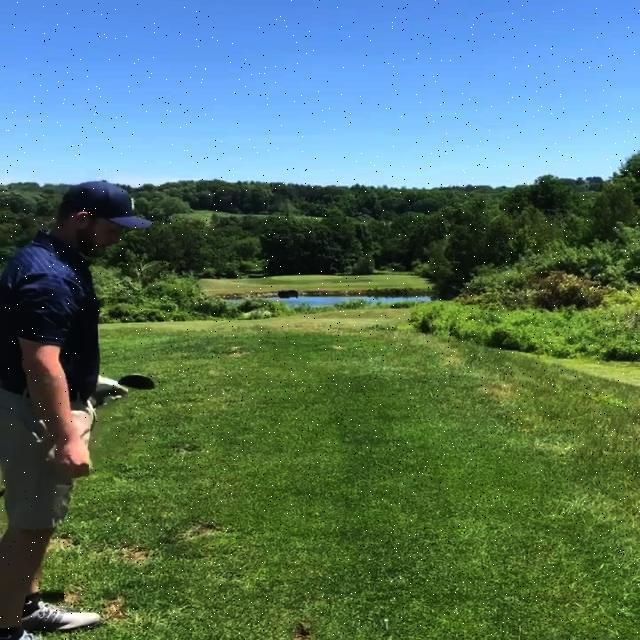ClubHead: (116, 376, 158, 390)
